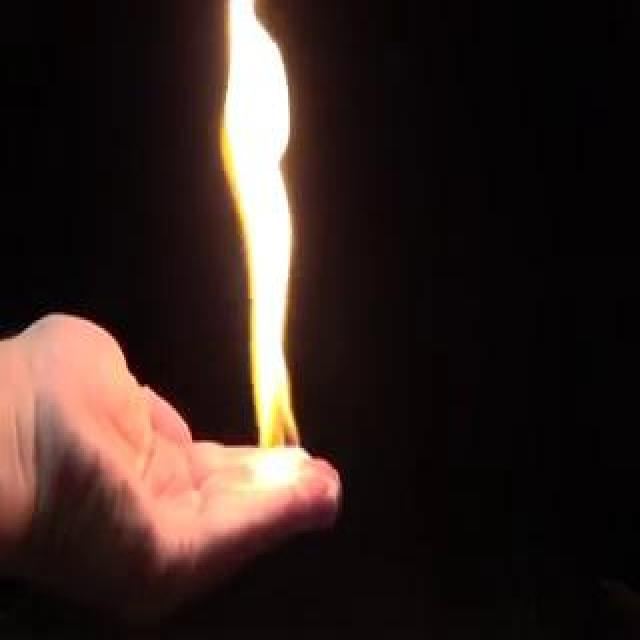Fire: (214, 58, 302, 514)
